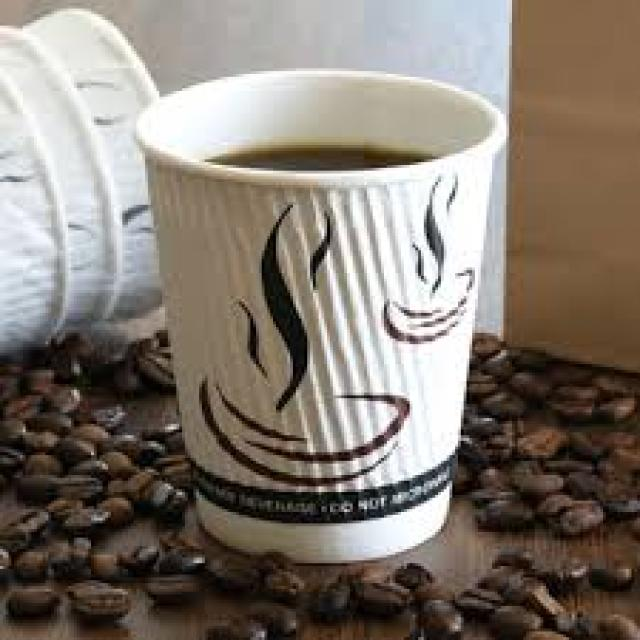PaperCardboard: (141, 72, 504, 559)
